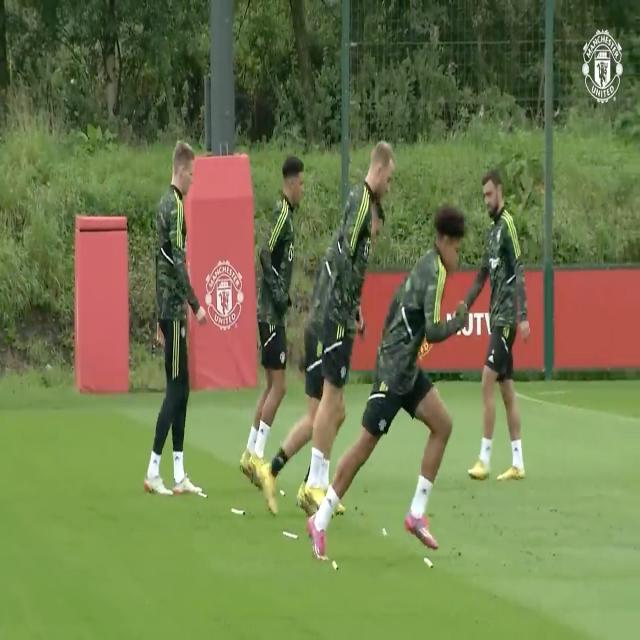Adidas: (326, 493, 336, 510), (421, 481, 430, 498)
